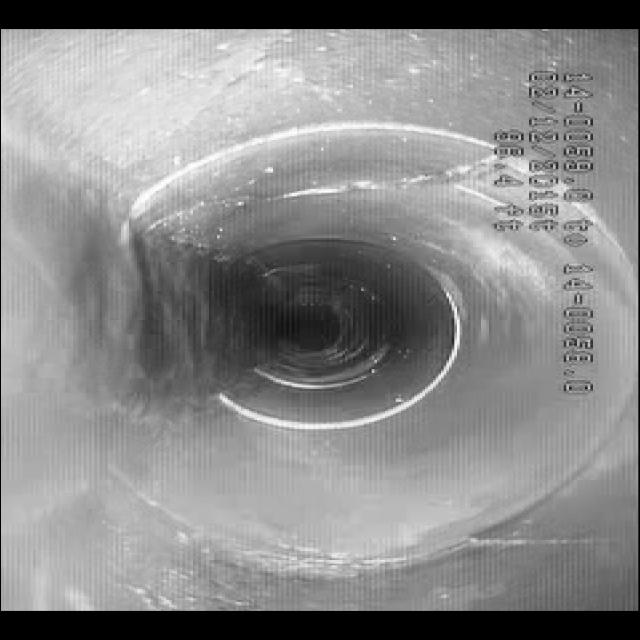Fracture: (206, 159, 450, 225)
